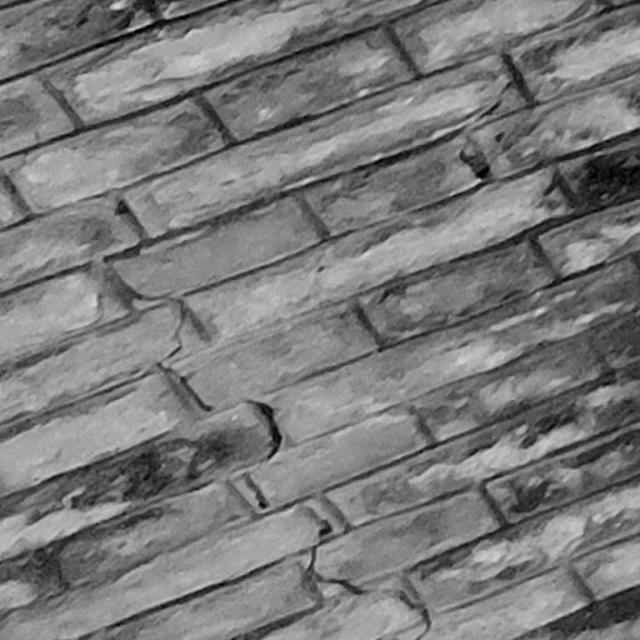crack: (131, 292, 431, 640)
